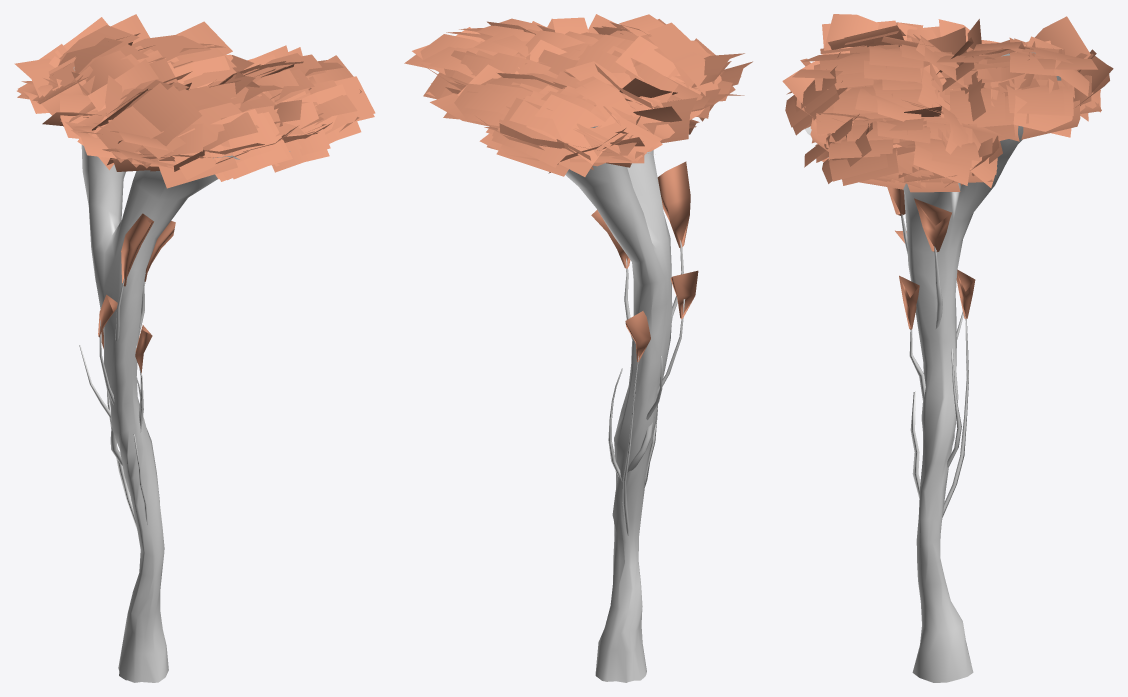
File: savTreeCypressShort.fbx
3 views of the same model, side by side, from view 1: azimuth 30°, elevation 25°; view 2: azimuth 150°, elevation 25°; view 3: azimuth 270°, elevation 25° (orthographic). The views are drawn at different scales.
Parts seen in each view (by area): view 1: savTreeCypressShortLeaf_LOD0, savTreeCypressShort_LOD0; view 2: savTreeCypressShortLeaf_LOD0, savTreeCypressShort_LOD0; view 3: savTreeCypressShortLeaf_LOD0, savTreeCypressShort_LOD0.
Part boxes in pixels (left/top/right/bottom): savTreeCypressShortLeaf_LOD0: left=14, top=14, right=375, bottom=372; savTreeCypressShort_LOD0: left=73, top=67, right=290, bottom=682; savTreeCypressShortLeaf_LOD0: left=404, top=14, right=752, bottom=361; savTreeCypressShort_LOD0: left=565, top=126, right=685, bottom=682; savTreeCypressShortLeaf_LOD0: left=782, top=14, right=1113, bottom=329; savTreeCypressShort_LOD0: left=805, top=52, right=1061, bottom=682.
Size of what is drawn, in the model's own units: 563 by 1128 by 525.
